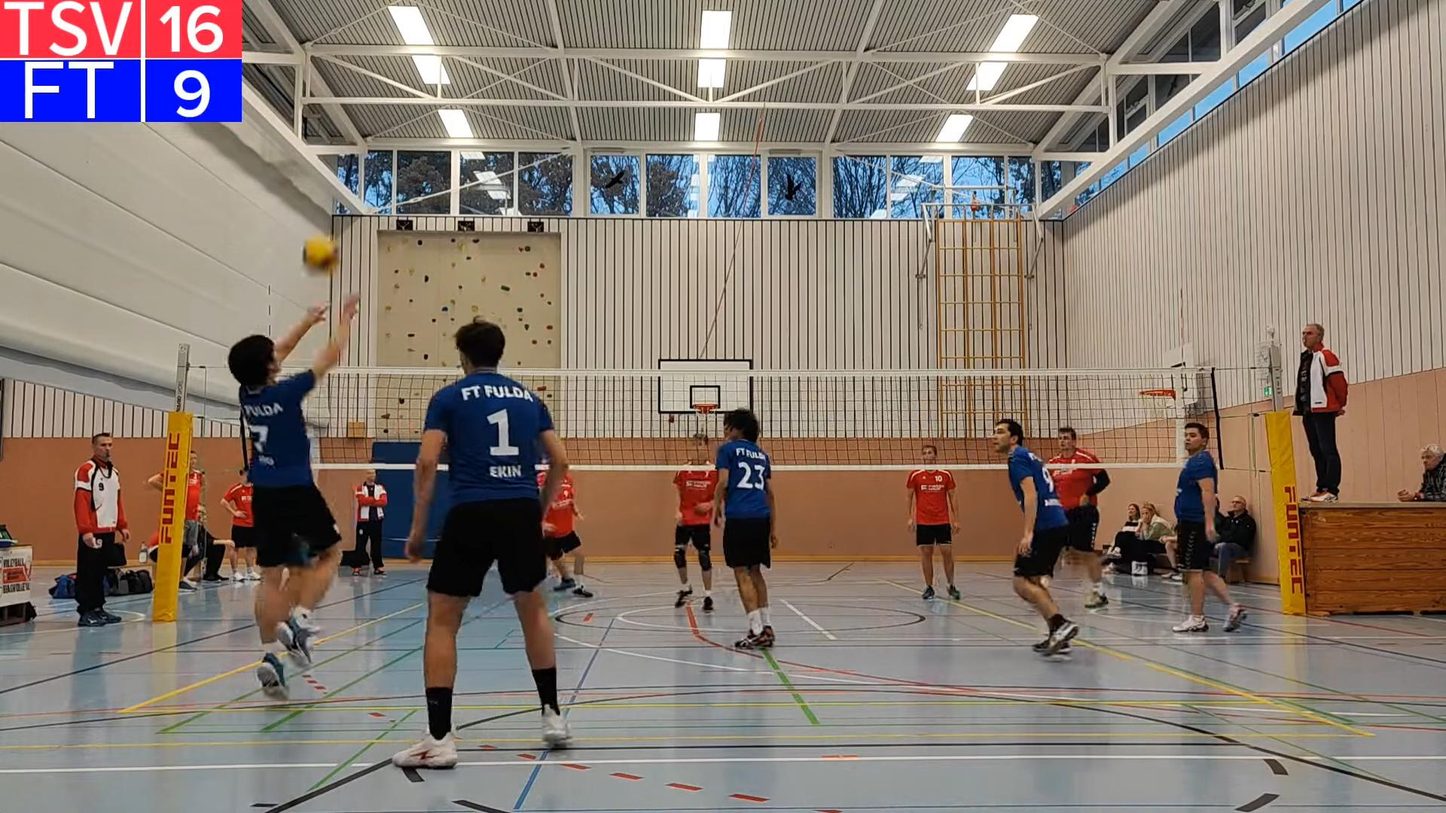ricezione: (218, 300, 356, 708)
